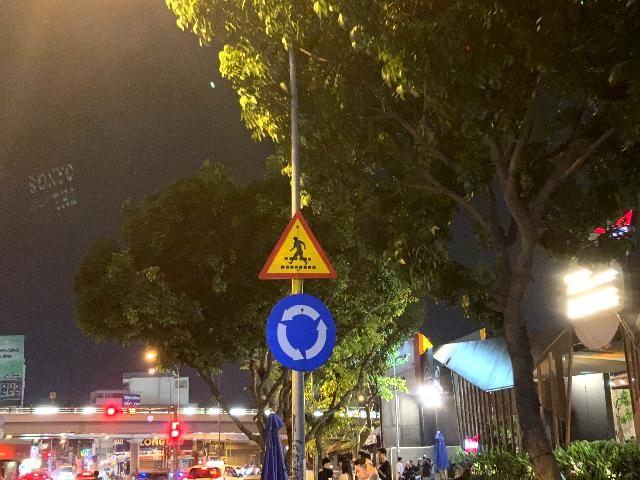duong-nguoi-di-bo-cat-ngang: (258, 210, 337, 279)
noi-giao-nhau-chay-theo-vong-xuyen: (265, 292, 336, 373)
